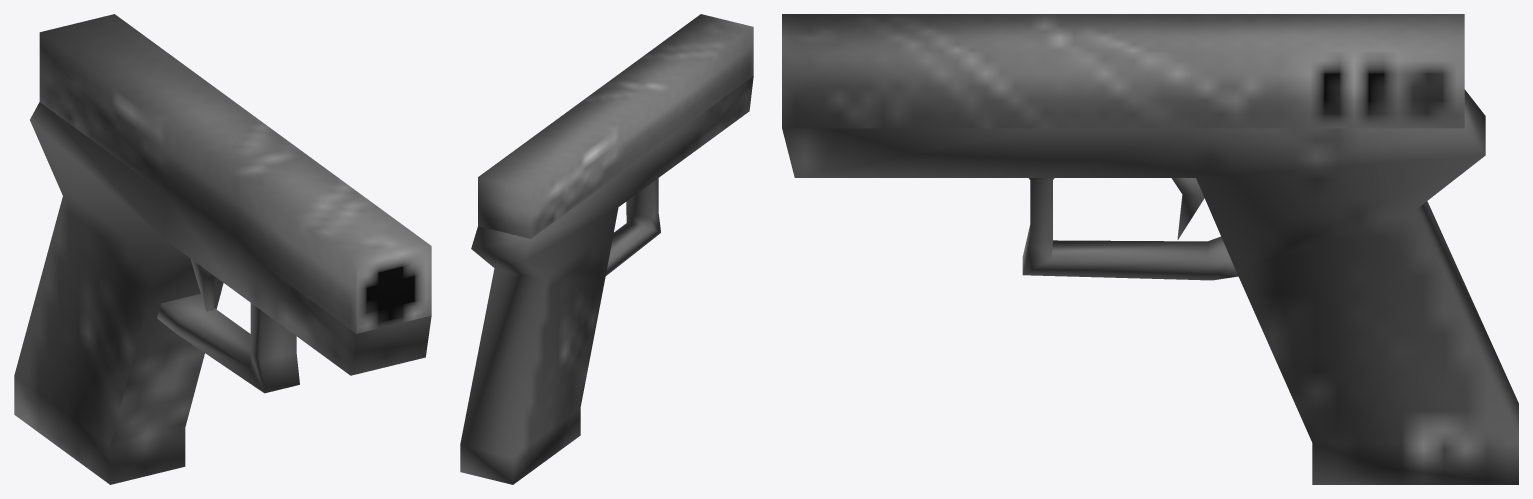
The model's file is GLOCK_TEXTURED.fbx.
3 renders of one model, left to right at view 1: azimuth 30°, elevation 25°; view 2: azimuth 150°, elevation 25°; view 3: azimuth 270°, elevation 25°, orthographic. The views are drawn at different scales.
Visible parts, largest first — view 1: Vert, Vert.002, Vert.001, Vert.003; view 2: Vert, Vert.002, Vert.001; view 3: Vert, Vert.002, Vert.001, Vert.003.
Part boxes in pixels (x1,y1,x2,y2): Vert: (14, 102, 431, 484); Vert.002: (39, 14, 431, 333); Vert.001: (157, 293, 299, 393); Vert.003: (190, 259, 214, 311); Vert: (460, 76, 753, 484); Vert.002: (478, 14, 753, 238); Vert.001: (606, 178, 660, 275); Vert: (782, 89, 1518, 484); Vert.002: (782, 14, 1464, 128); Vert.001: (1022, 178, 1238, 280); Vert.003: (1171, 178, 1204, 239).
Size of the model in its own units: 57.9 by 295 by 457.
